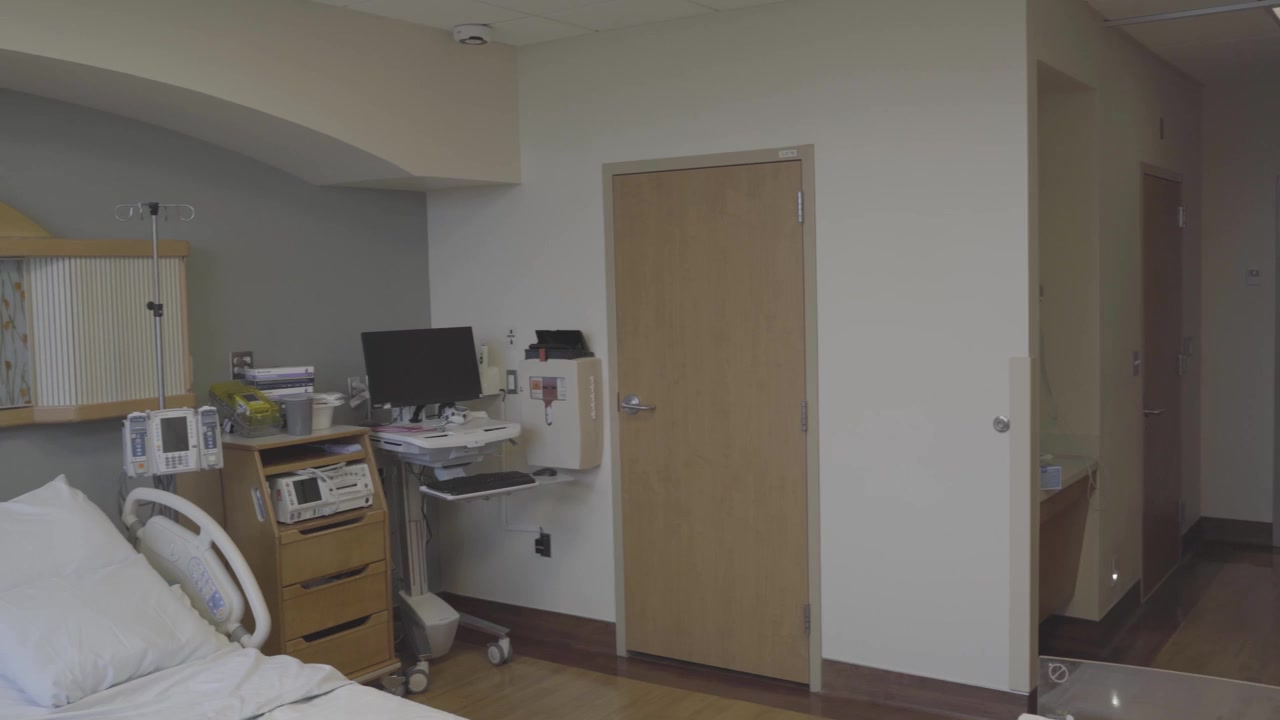bedrail: (120, 484, 273, 649)
bedside_table: (208, 423, 400, 697)
computer: (361, 326, 482, 409)
countertop: (1039, 456, 1097, 503)
dispenser: (517, 359, 605, 470)
door_handle: (621, 398, 656, 415), (1141, 406, 1168, 422)
hospital_bed: (1, 473, 510, 720)
infusion_pump: (120, 406, 224, 478)
iv_pole: (113, 202, 198, 407)
keyboard: (427, 470, 536, 495)
mouse: (534, 467, 558, 476)
